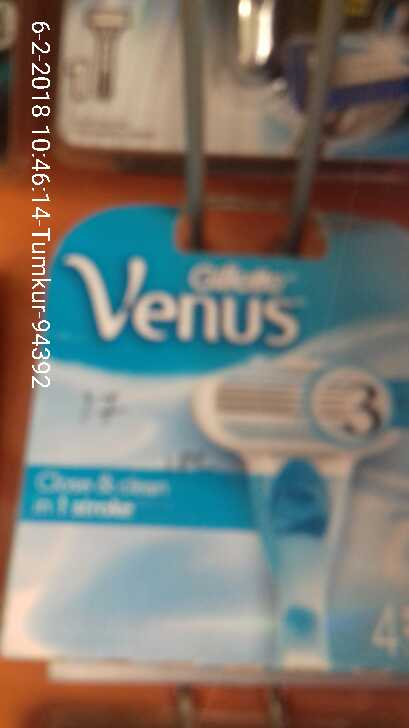venus: (7, 209, 408, 679)
